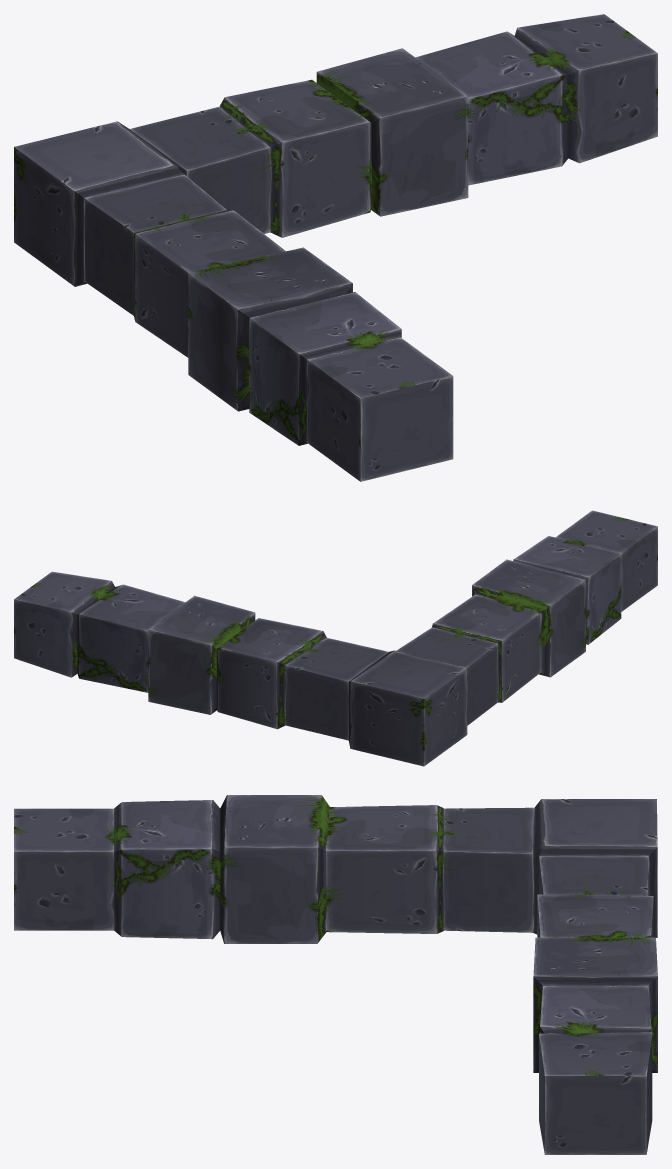
The model's file is MOD_WallCover_01_M_corner.fbx.
3 views of the same model, one above another, from view 1: azimuth 30°, elevation 25°; view 2: azimuth 150°, elevation 25°; view 3: azimuth 270°, elevation 25° (orthographic). The views are drawn at different scales.
Parts seen in each view (by area): view 1: MOD_WallCover_01_M_corner; view 2: MOD_WallCover_01_M_corner; view 3: MOD_WallCover_01_M_corner.
Part boxes in pixels (box(x1,y1,x2,y2)): MOD_WallCover_01_M_corner: box(14, 14, 657, 481); MOD_WallCover_01_M_corner: box(14, 510, 657, 766); MOD_WallCover_01_M_corner: box(14, 795, 657, 1154).
Size of what is drawn, in the model's own units: 443 by 73.38 by 443.
